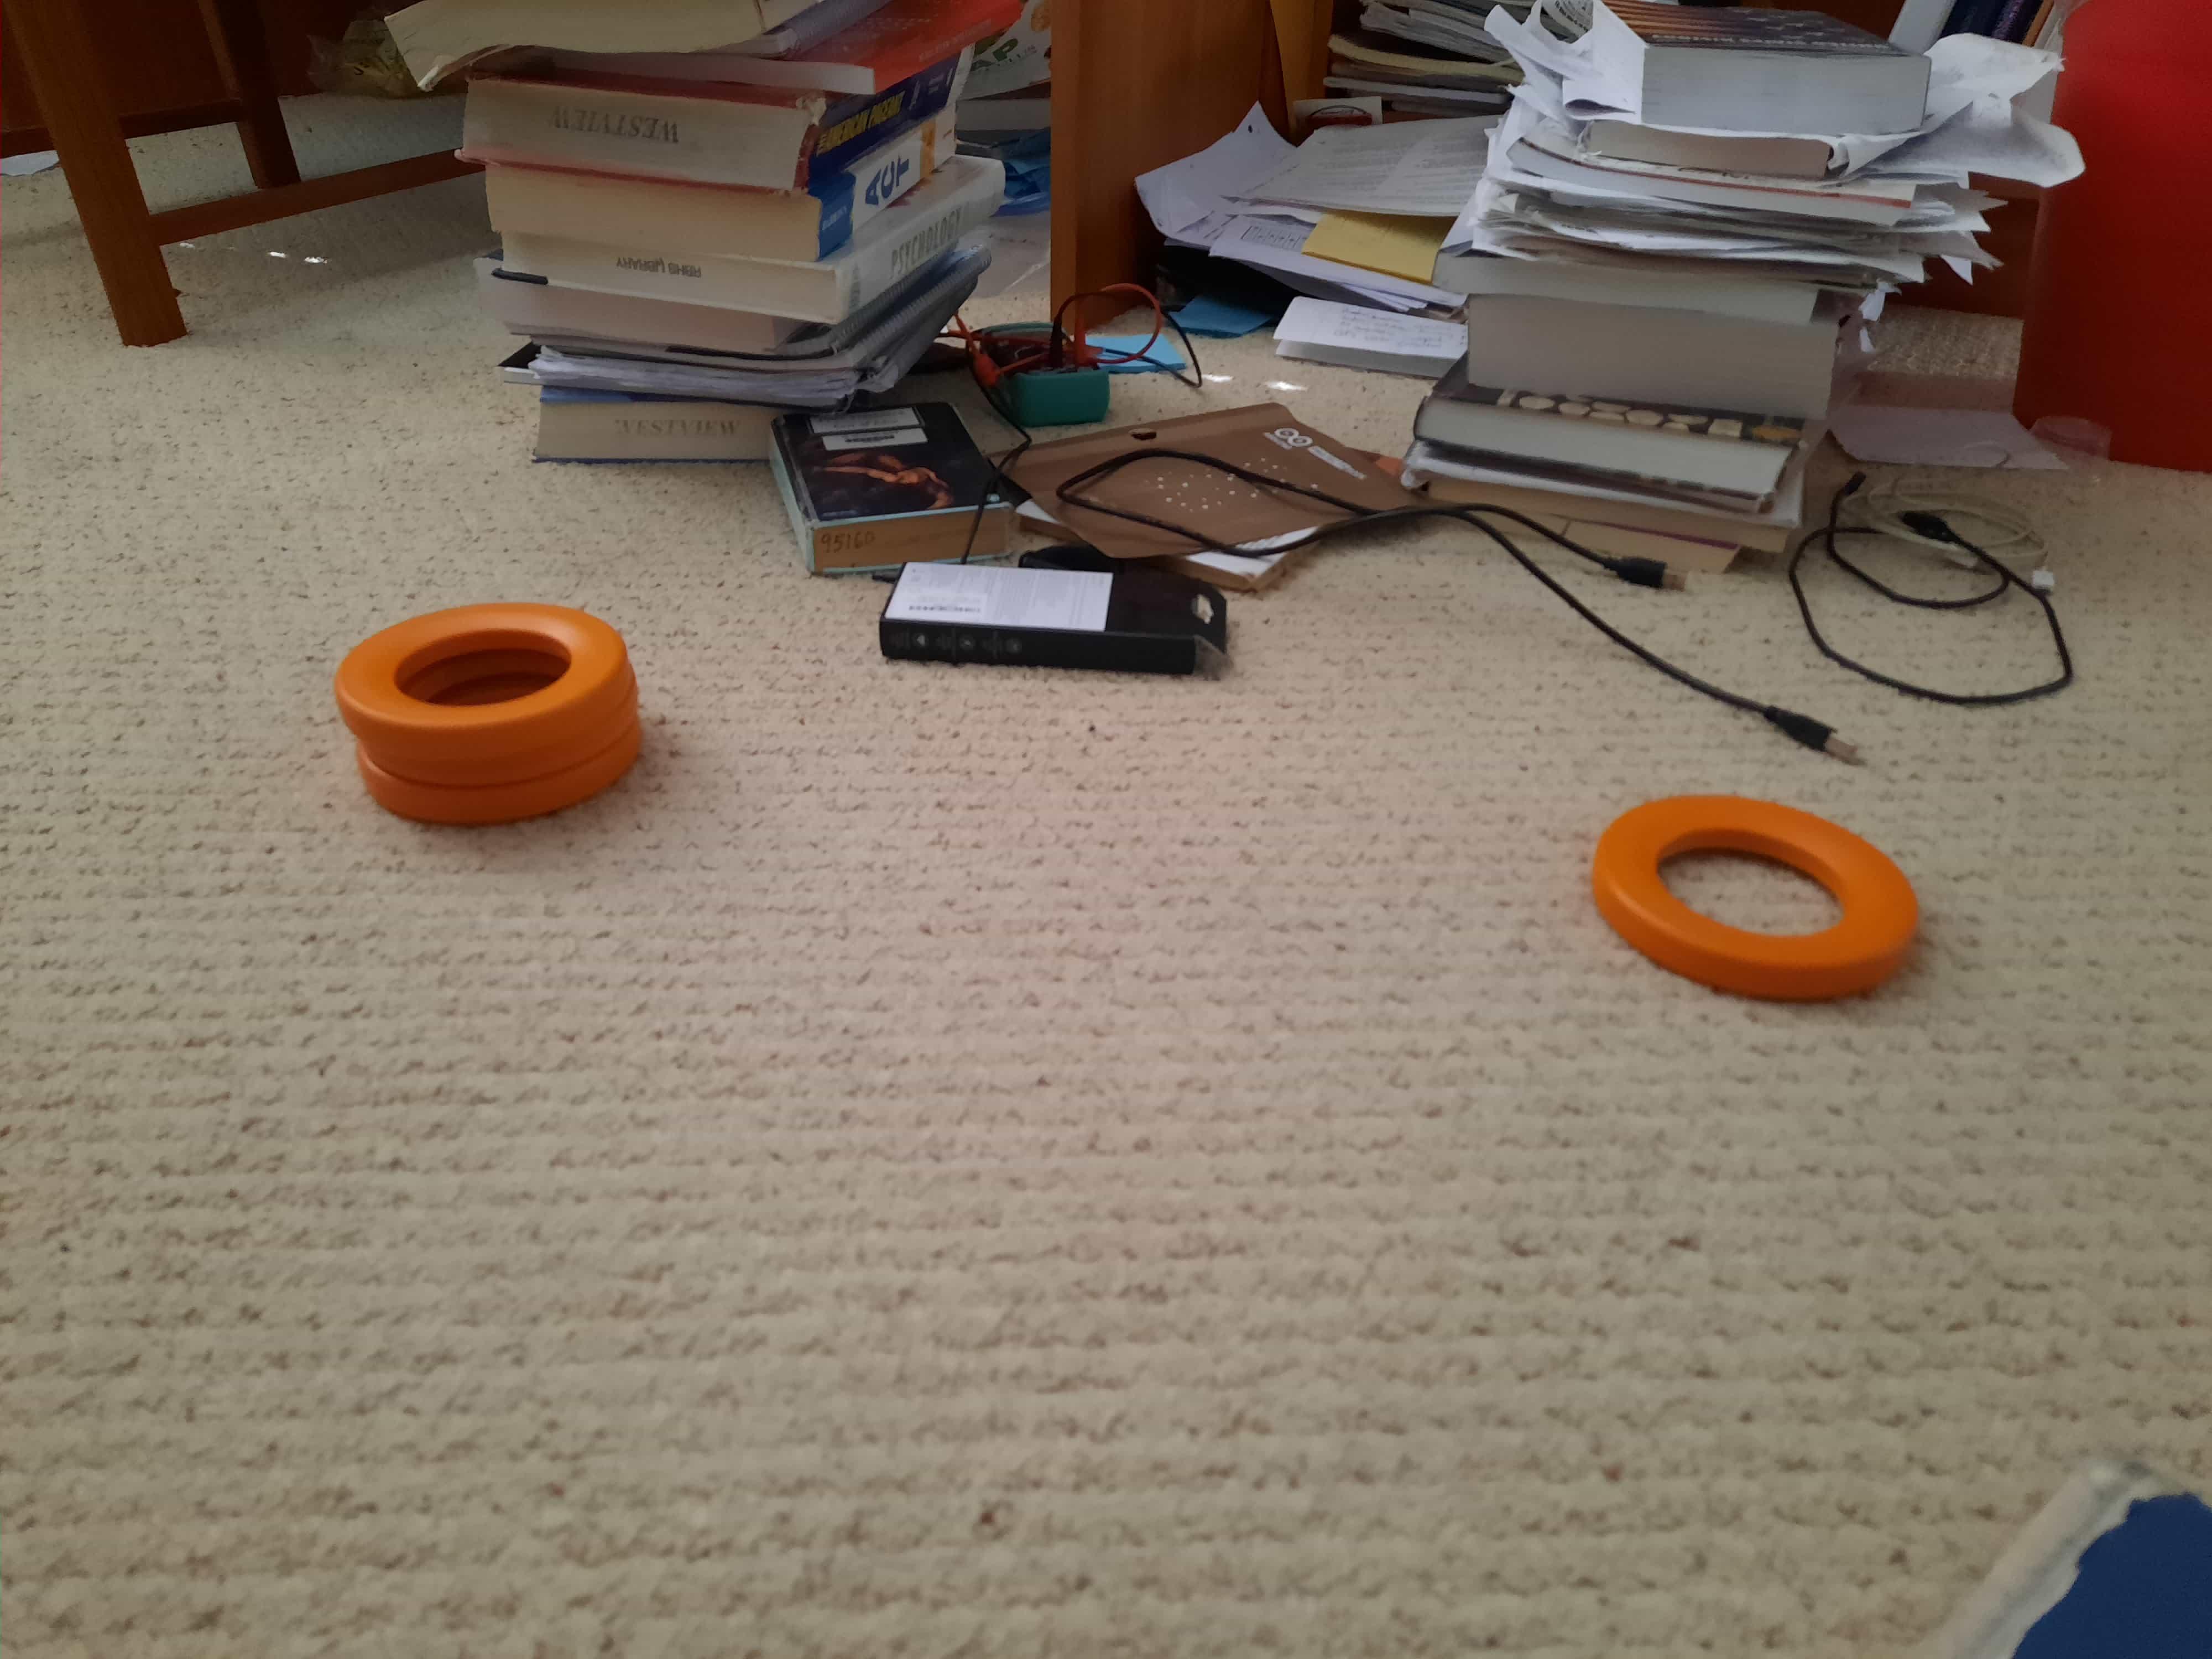FourStack: (347, 610, 643, 814)
OneStack: (1597, 793, 1926, 999)
